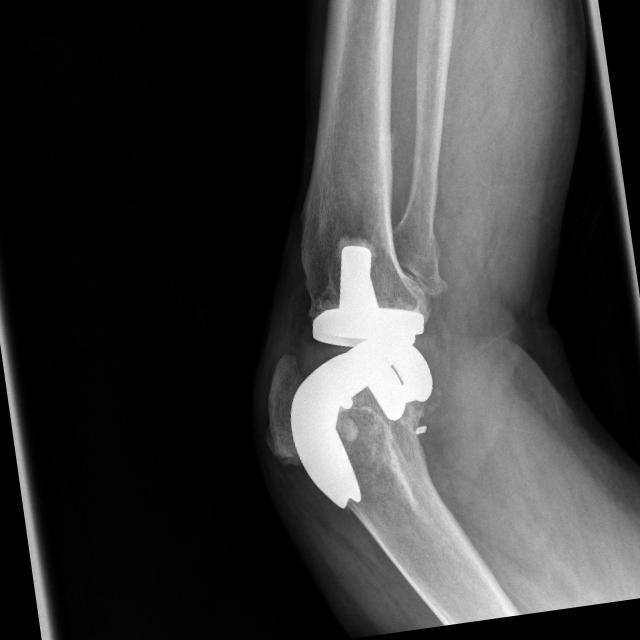Knee: (245, 256, 453, 472)
